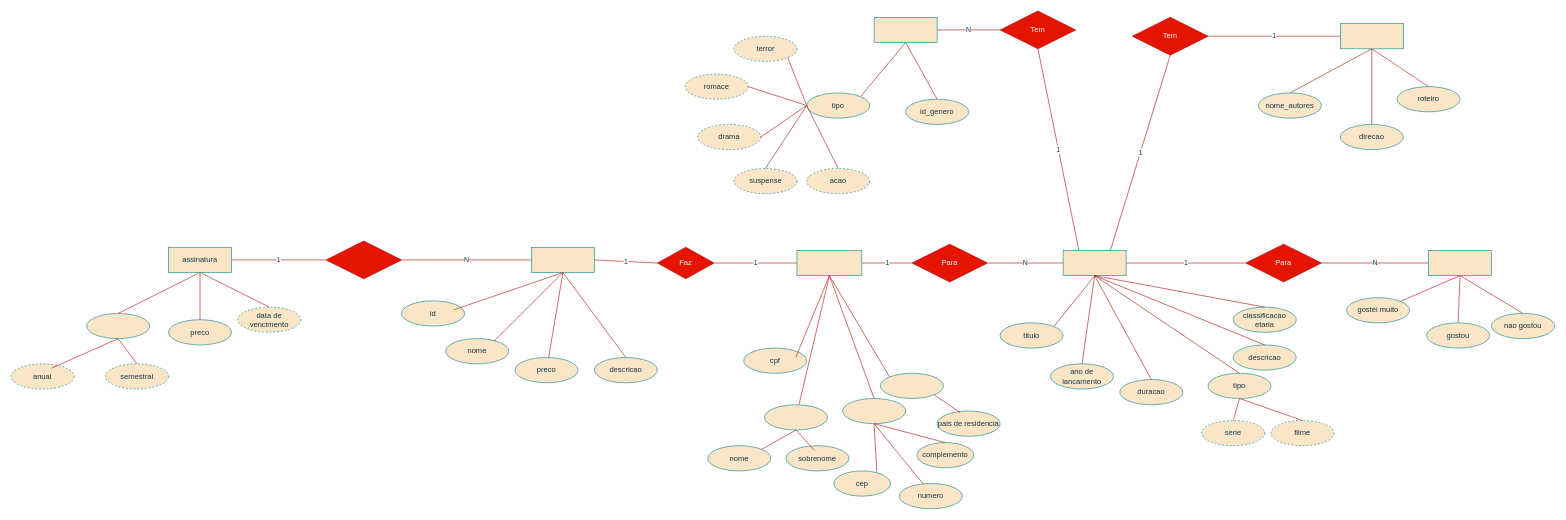
The diagram is 1566 pixels wide and 520 high, and some of its shapes have lost their labels. The shapes that lost their labels are listed below. From the top down, each one's centre as x and y in pixels, then its label:
pixel 905 30: Genero
pixel 1371 36: Elenco
pixel 363 259: Possui
pixel 562 260: Cadastro
pixel 829 263: Usuario
pixel 1094 263: Conteudo
pixel 1460 263: Avaliacao
pixel 118 326: tipo de plano
pixel 911 385: telefones
pixel 796 417: nome completo
pixel 874 411: endereco
